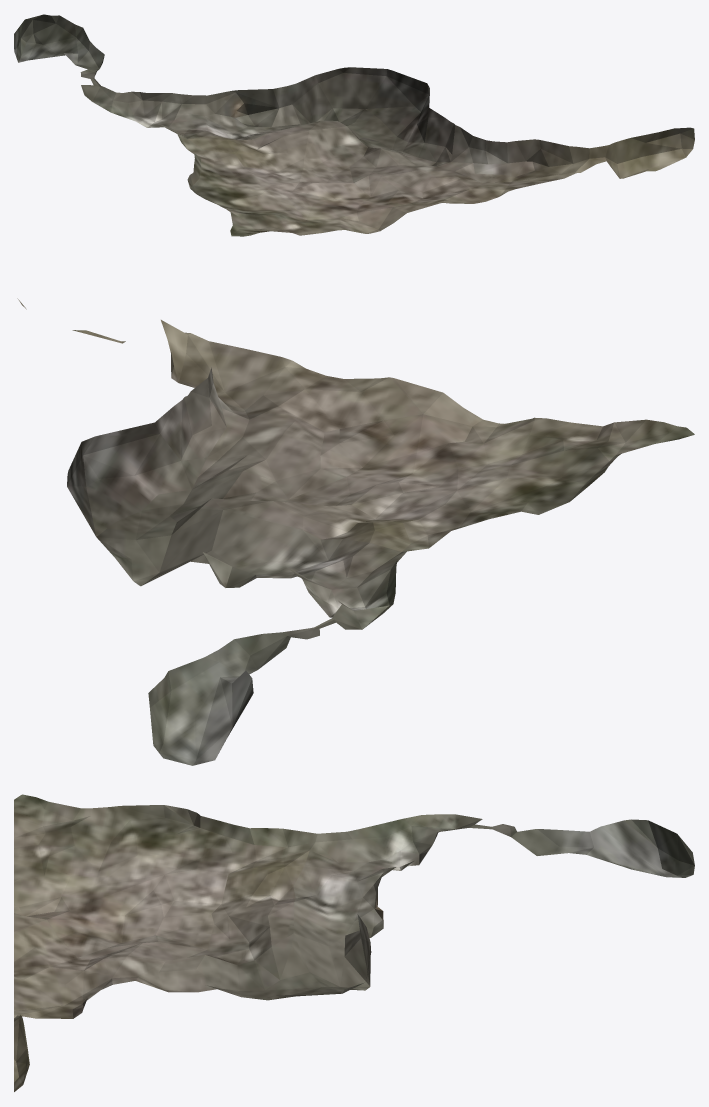
3 views of the same model, one above another, from view 1: azimuth 30°, elevation 25°; view 2: azimuth 150°, elevation 25°; view 3: azimuth 270°, elevation 25° (orthographic). The views are drawn at different scales.
Bounding box in the file's own units: 5.39 × 0.5652 × 5.78.
1 material, 1 textured.
